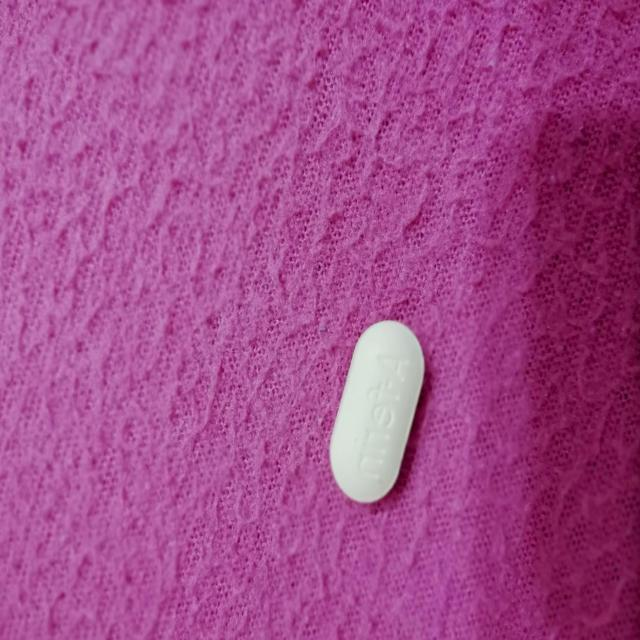pill: (330, 316, 425, 508)
